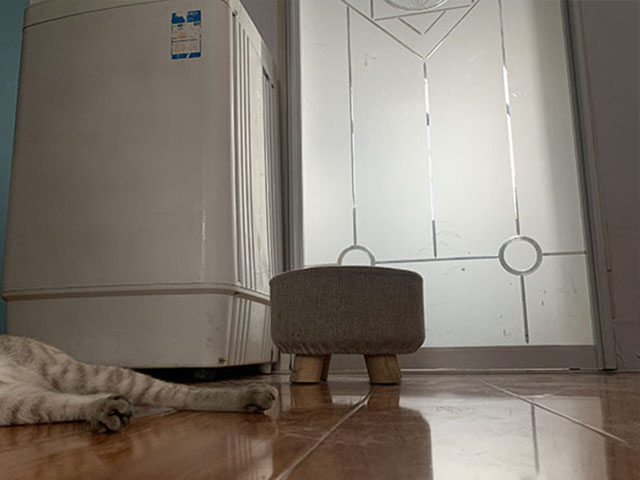stool: (266, 264, 430, 385)
